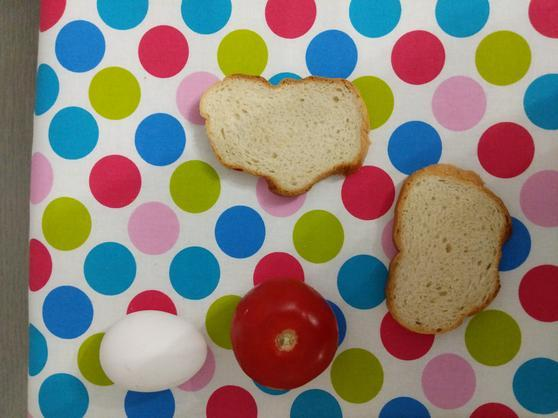egg: (95, 308, 214, 396)
tomato: (229, 275, 343, 392)
white_bread: (381, 143, 509, 351), (193, 67, 371, 198)
